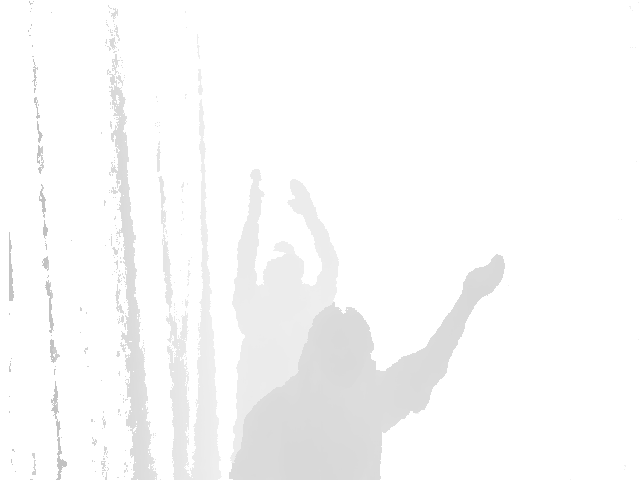hand: (461, 252, 505, 295), (286, 179, 319, 214), (249, 167, 266, 211)
head: (296, 305, 375, 392), (261, 240, 306, 287)
person: (227, 252, 505, 480), (230, 166, 341, 462)
